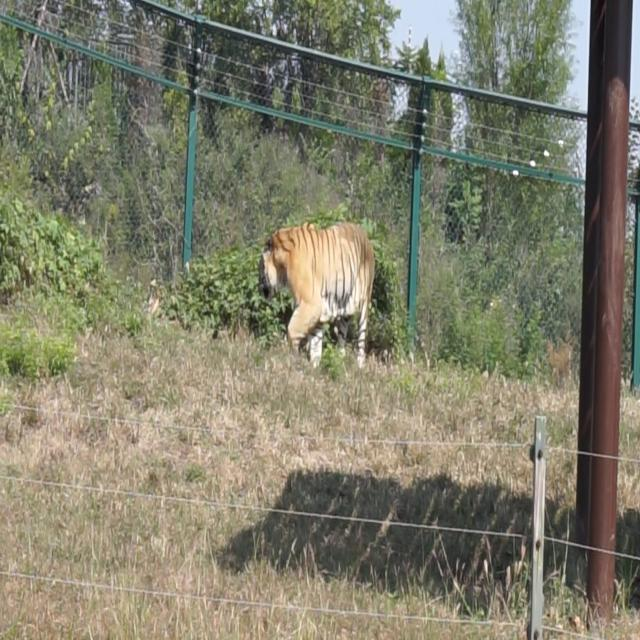Tiger: (248, 211, 399, 366)
